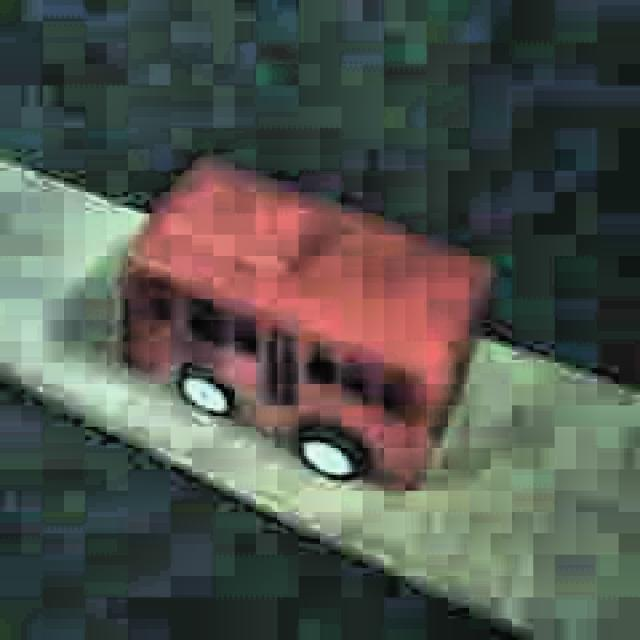bus: (119, 154, 493, 493)
